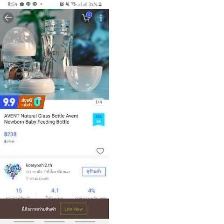bottle: (38, 17, 77, 90), (0, 48, 40, 94)
